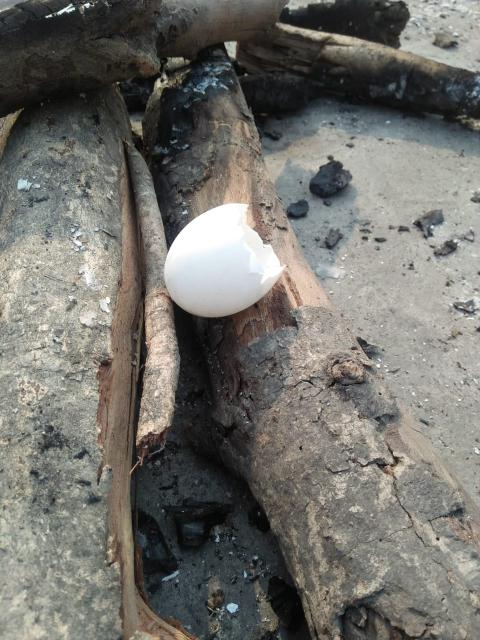Roto: (162, 202, 286, 318)
